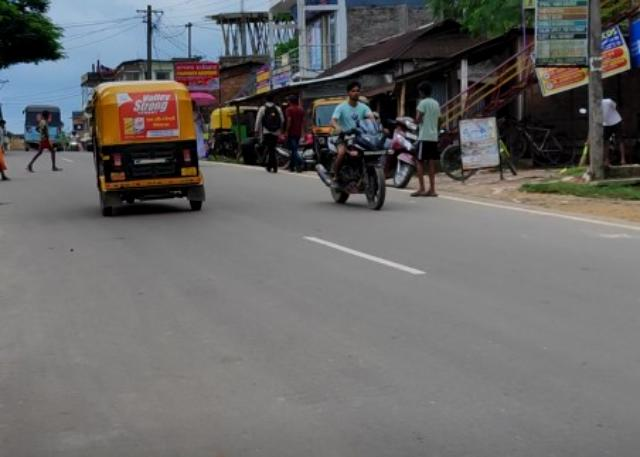licensePlate: (366, 149, 392, 157)
motorcycle: (315, 79, 398, 210)
withoutHelmet: (344, 80, 364, 104)
